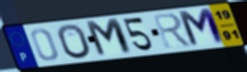0: (30, 27, 60, 62)
5: (121, 17, 155, 53)
M: (176, 6, 228, 49), (83, 16, 135, 59)
O: (56, 23, 94, 61)
R: (151, 12, 195, 50)
